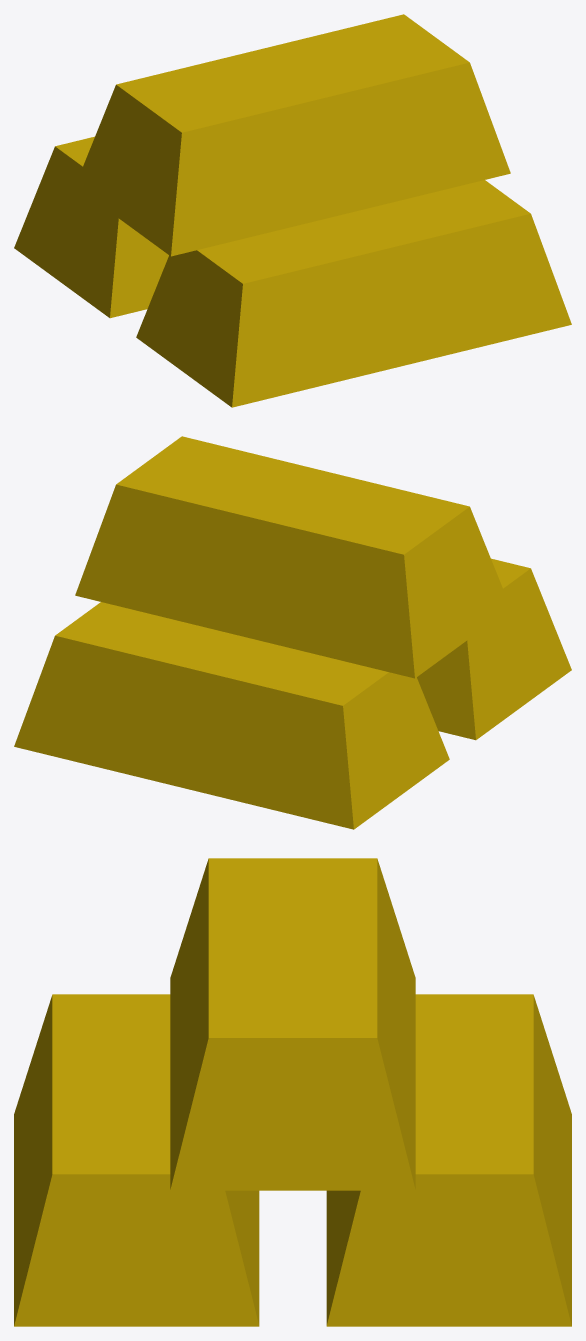
The model's file is Ingot.fbx.
3 views of the same model, one above another, from view 1: azimuth 30°, elevation 25°; view 2: azimuth 150°, elevation 25°; view 3: azimuth 270°, elevation 25° (orthographic). The views are drawn at different scales.
Visible parts, largest first — view 1: Ingot; view 2: Ingot; view 3: Ingot.
Part boxes in pixels (left/top/right/bottom): Ingot: left=14, top=14, right=571, bottom=407; Ingot: left=14, top=436, right=571, bottom=829; Ingot: left=14, top=858, right=571, bottom=1326.
Size of the model in its own units: 0.8038 by 0.481 by 0.8928.
